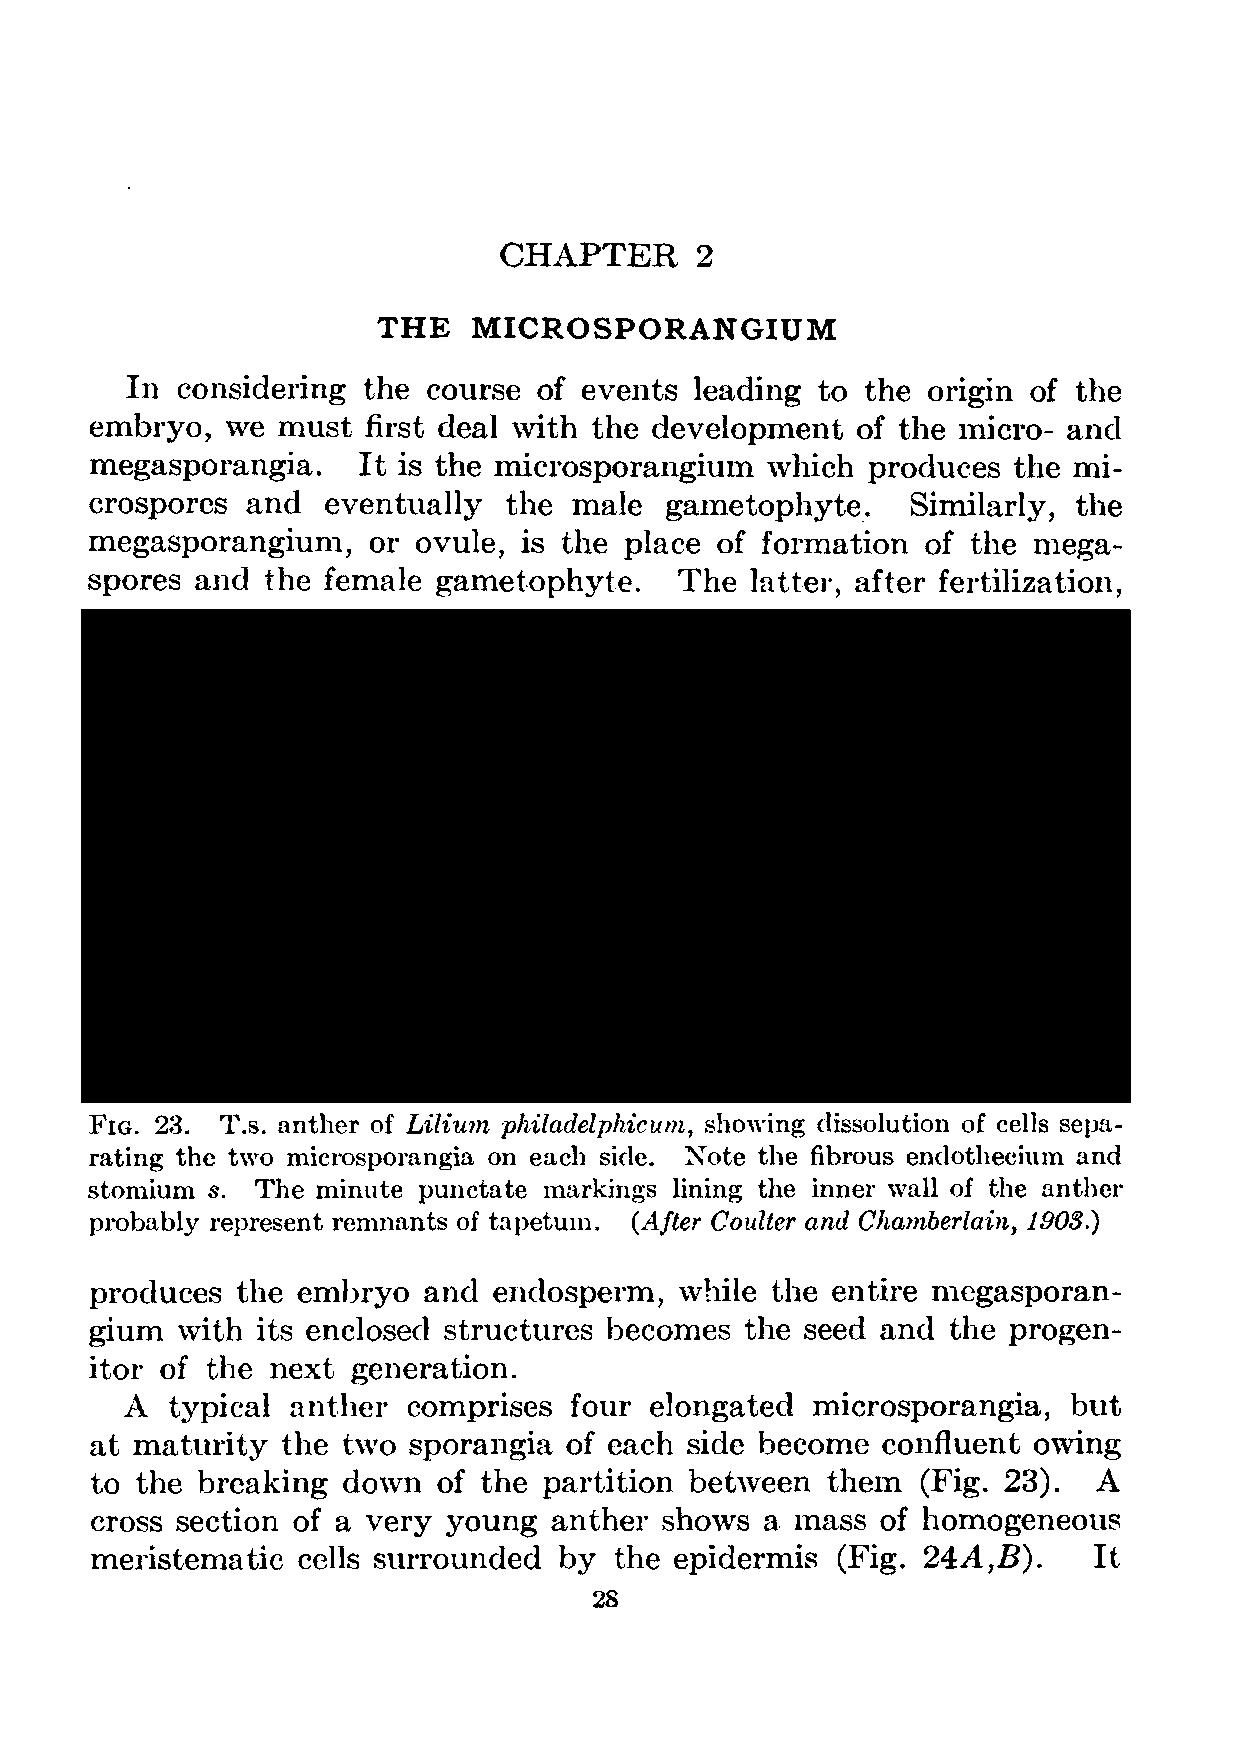chapter: (376, 239, 836, 342)
content: (86, 1108, 1126, 1576), (85, 372, 1123, 603)
content_pagenumber: (586, 1588, 621, 1610)
